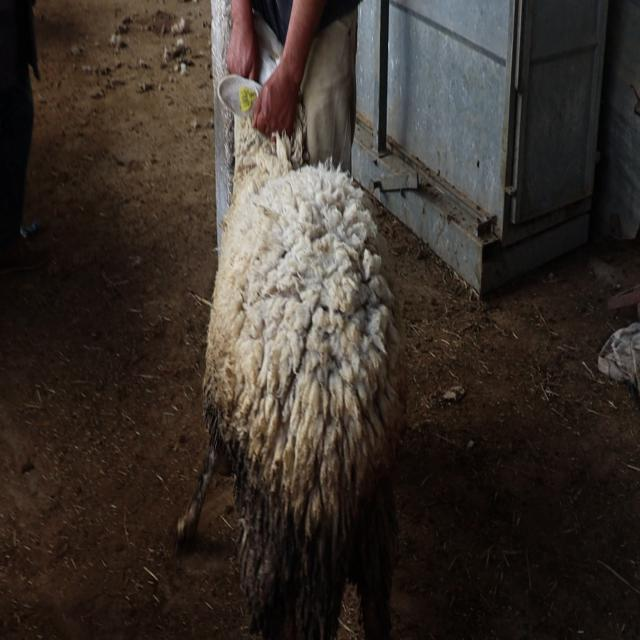Score_4: (177, 18, 404, 639)
